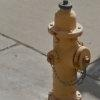Hydrant: (39, 1, 94, 100)
